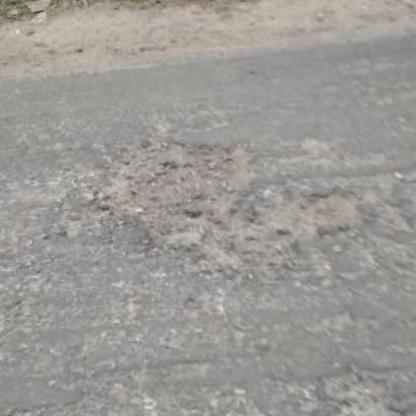pothole: (85, 101, 369, 292)
